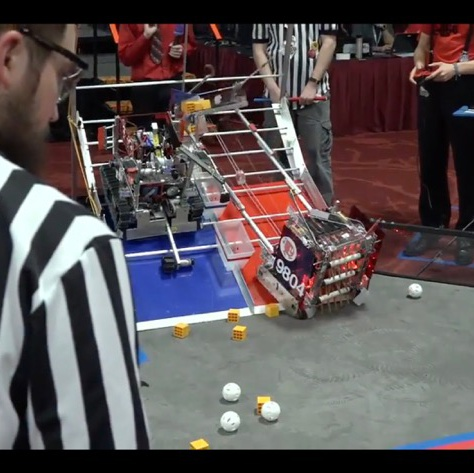robot: (85, 82, 211, 273), (251, 190, 388, 319)
